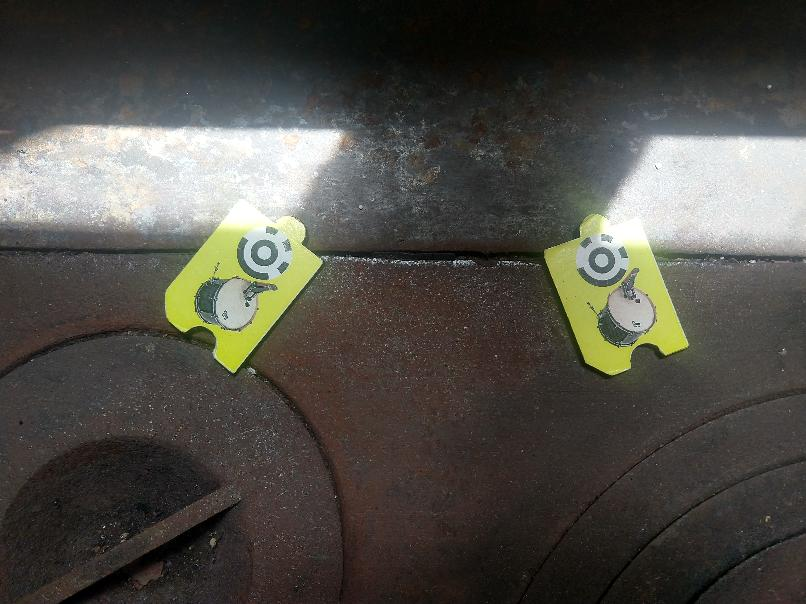bumbo: (163, 194, 323, 373), (542, 213, 691, 376)
